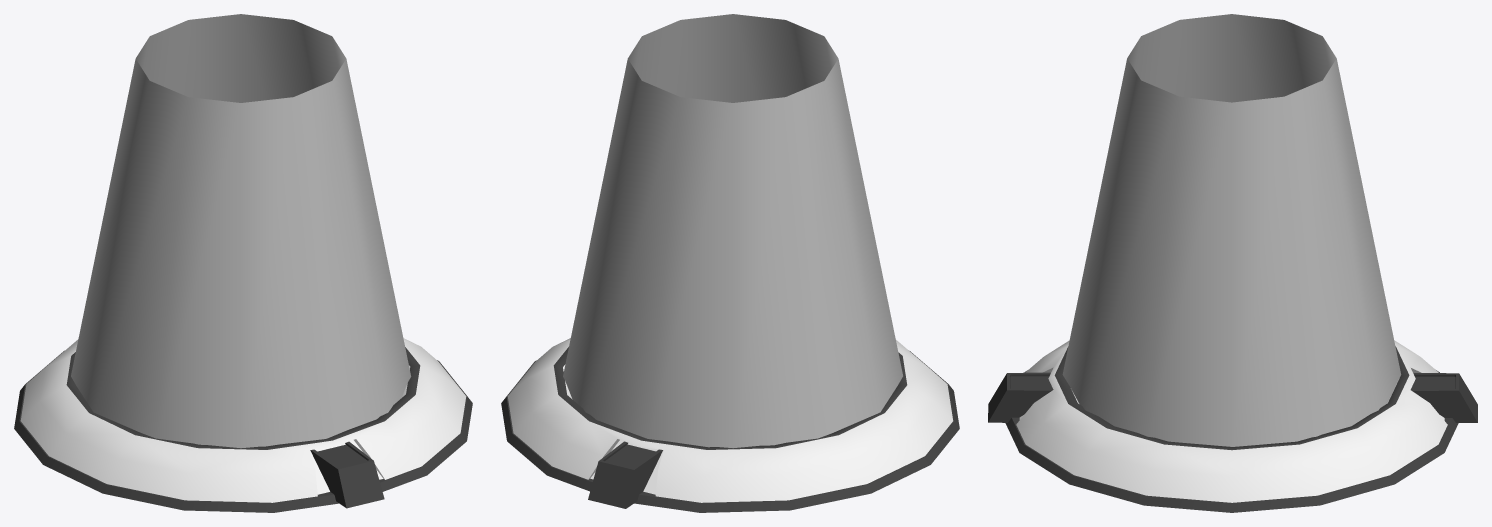
The model's file is SPW0110032.FBX.
3 renders of one model, left to right at view 1: azimuth 30°, elevation 25°; view 2: azimuth 150°, elevation 25°; view 3: azimuth 270°, elevation 25°, orthographic.
Visible parts, largest first — view 1: smSPW0110032; view 2: smSPW0110032; view 3: smSPW0110032.
Part boxes in pixels (bbox=[...]): smSPW0110032: bbox=[14, 14, 472, 512]; smSPW0110032: bbox=[501, 14, 959, 512]; smSPW0110032: bbox=[988, 14, 1477, 512].
Size of the model in its own units: 230 by 196 by 245.
2 materials, 1 textured.
